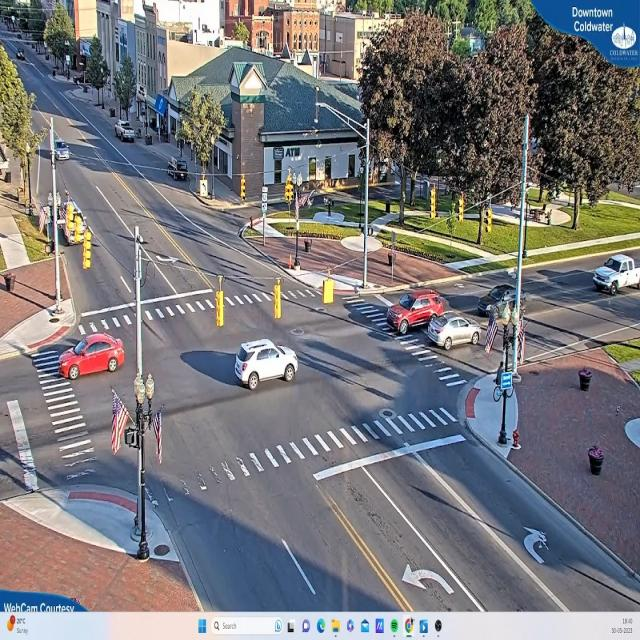car: (56, 329, 126, 389), (232, 338, 296, 390), (385, 285, 441, 332), (427, 310, 486, 352), (594, 255, 638, 295), (476, 281, 518, 319), (166, 160, 189, 180), (116, 124, 136, 143), (53, 139, 70, 161)
